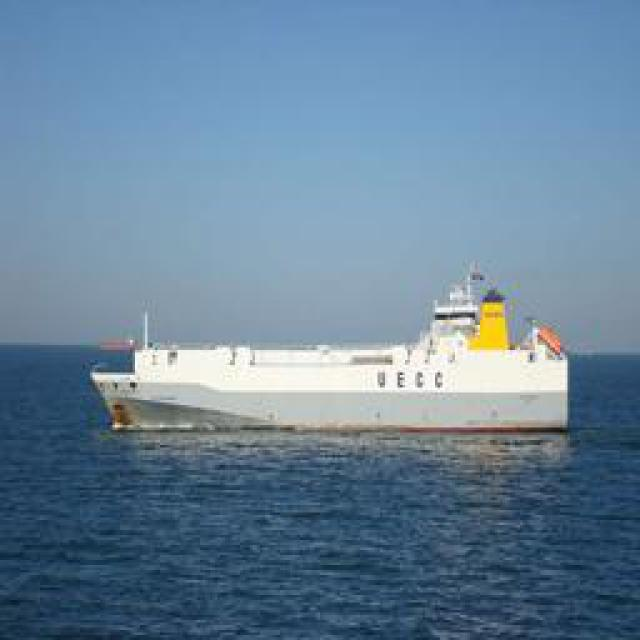Ship: (77, 266, 580, 441)
